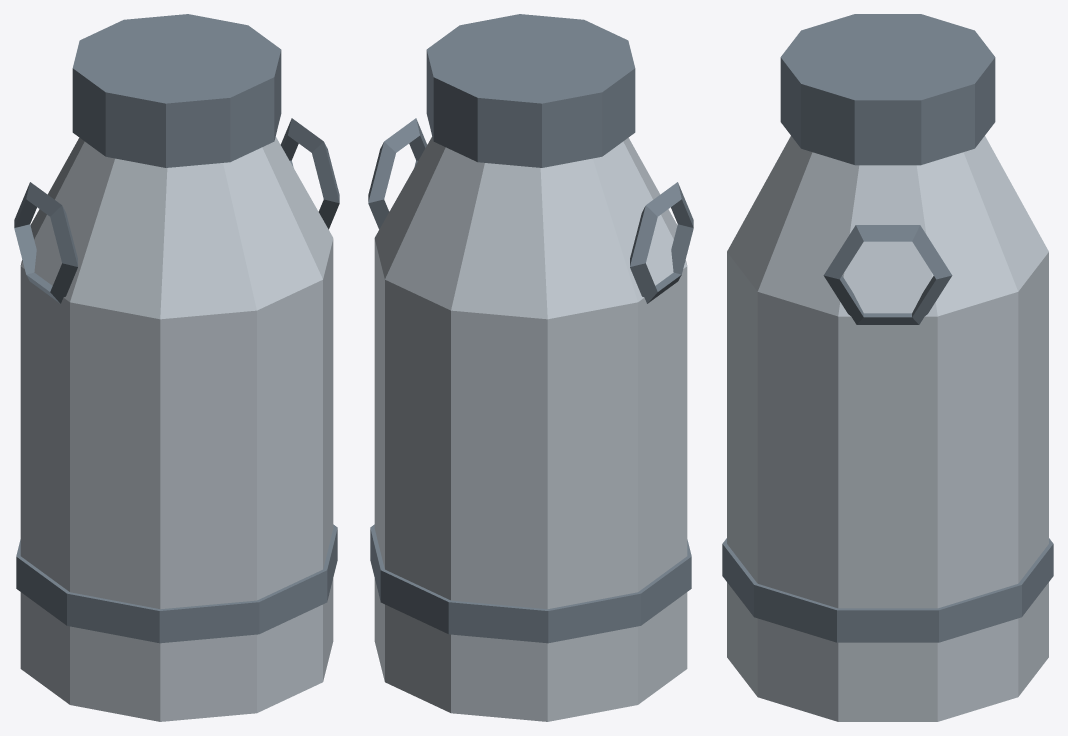
File: prop_milk_can.glb
The picture shows the model from 3 angles, left to right: view 1: azimuth 30°, elevation 25°; view 2: azimuth 150°, elevation 25°; view 3: azimuth 270°, elevation 25°; orthographic projection.
Visible parts, largest first — view 1: prop_milk_can; view 2: prop_milk_can; view 3: prop_milk_can.
Part boxes in pixels (bbox=[...]): prop_milk_can: bbox=[14, 14, 339, 721]; prop_milk_can: bbox=[368, 14, 693, 721]; prop_milk_can: bbox=[722, 14, 1053, 721].
Bounding box in the file's own units: 0.3608 × 0.74 × 0.37.
